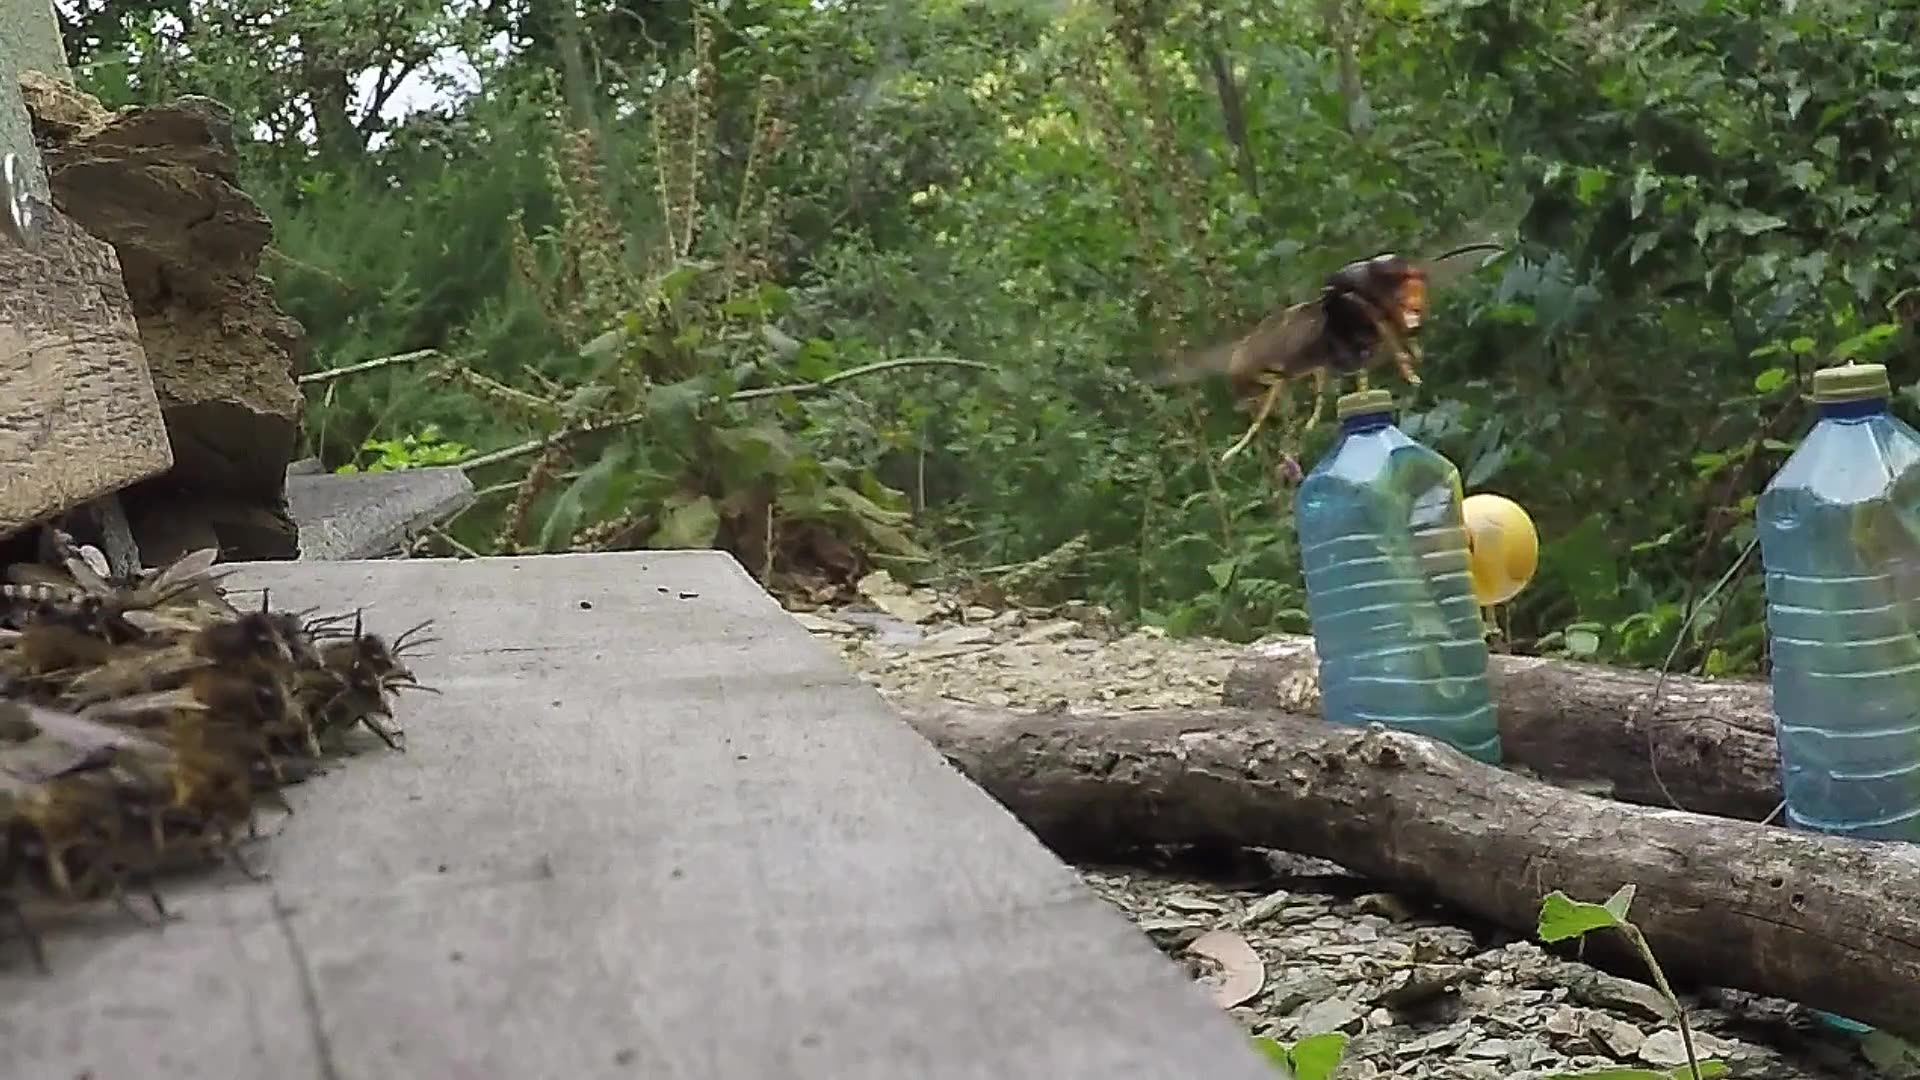bee: (1, 556, 433, 940)
hornet: (1215, 236, 1458, 423)
